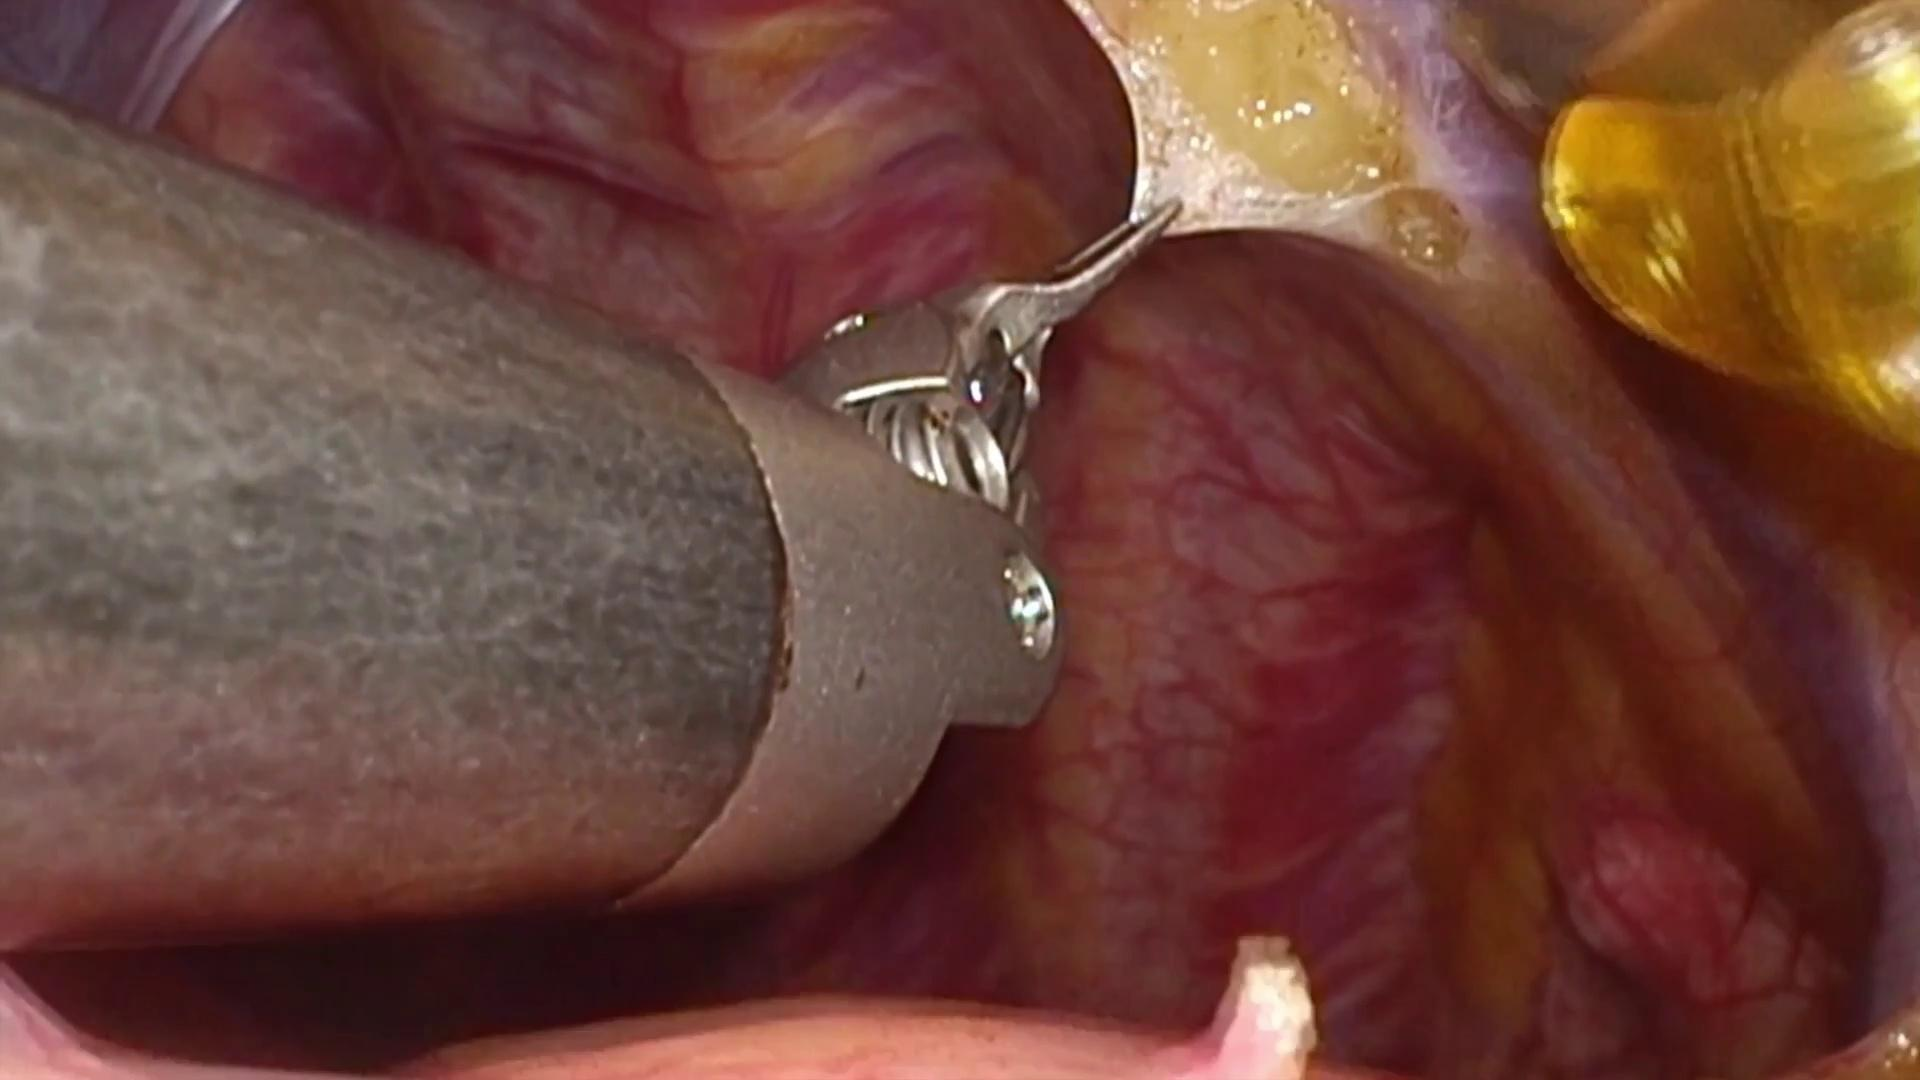Cautery_Spatula: (1433, 0, 1630, 116)
Debakey: (944, 193, 1187, 402)
